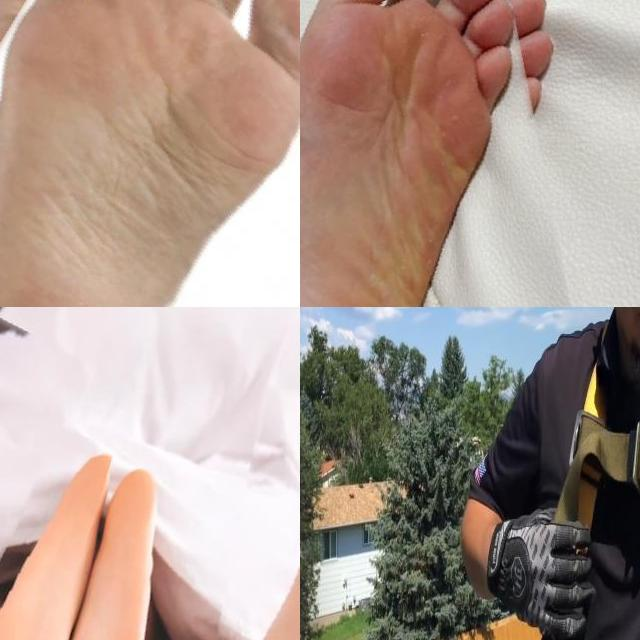Barefoots: (0, 0, 300, 307), (300, 0, 569, 307), (145, 372, 300, 640), (4, 451, 210, 640), (0, 307, 88, 640), (0, 421, 133, 640)
Harness: (555, 367, 640, 530)
